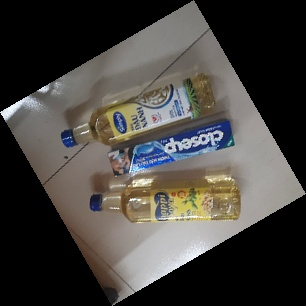CloseUp Tuyet: (108, 119, 236, 177)
Happy Soya: (87, 179, 242, 223)
Simply: (58, 73, 217, 148)
